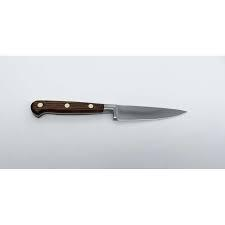Knife: (30, 99, 187, 120)
